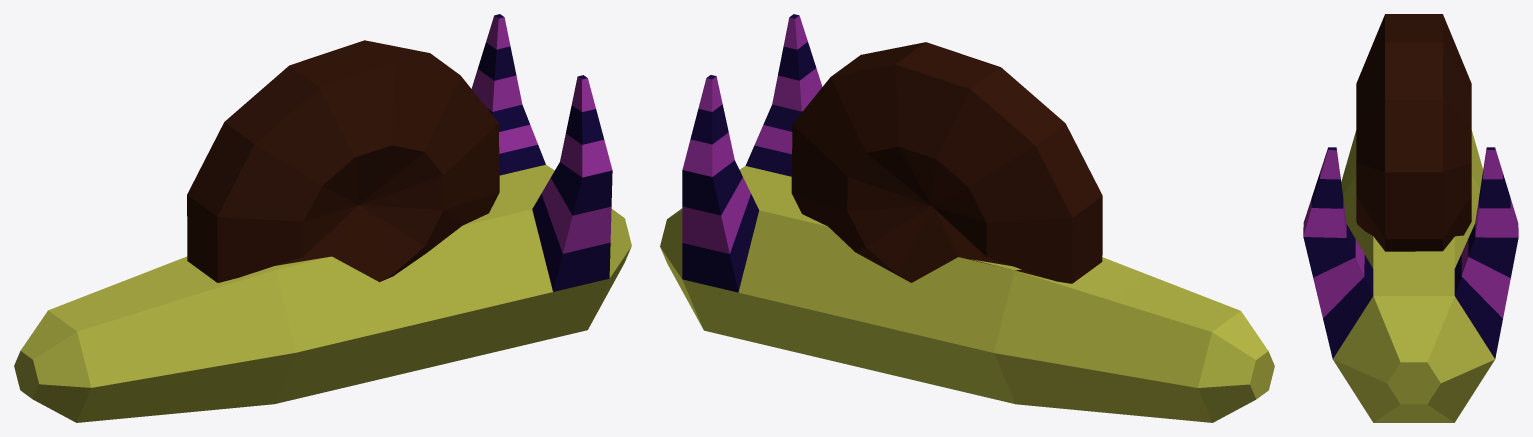
The model's file is Snail.obj.
The picture shows the model from 3 angles, left to right: view 1: azimuth 30°, elevation 25°; view 2: azimuth 150°, elevation 25°; view 3: azimuth 270°, elevation 25°; orthographic projection. The views are drawn at different scales.
Parts seen in each view (by area): view 1: Shell; view 2: Shell; view 3: Shell.
Boxes of the visible parts, box(x1,y1,x2,y2) form: Shell: box(14, 14, 631, 422); Shell: box(660, 14, 1274, 422); Shell: box(1303, 14, 1518, 422).
Size of the model in its own units: 0.2182 by 0.1088 by 0.0723.
